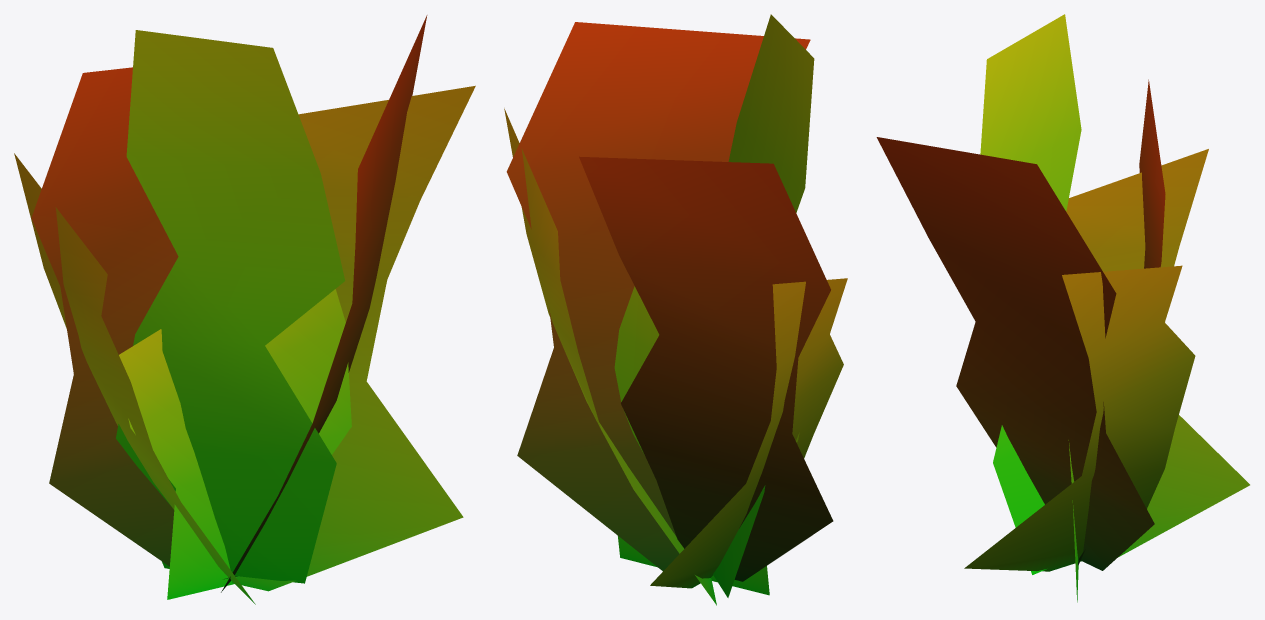
The model's file is Var8Hi57.fbx.
The picture shows the model from 3 angles, left to right: view 1: azimuth 30°, elevation 25°; view 2: azimuth 150°, elevation 25°; view 3: azimuth 270°, elevation 25°; orthographic projection. The views are drawn at different scales.
Visible parts, largest first — view 1: bend1; view 2: bend1; view 3: bend1.
Part boxes in pixels (x1,y1,x2,y2): bend1: (14, 15, 475, 604); bend1: (504, 14, 847, 605); bend1: (876, 14, 1249, 602).
Bounding box in the file's own units: 1.26 × 1.77 × 1.18.
